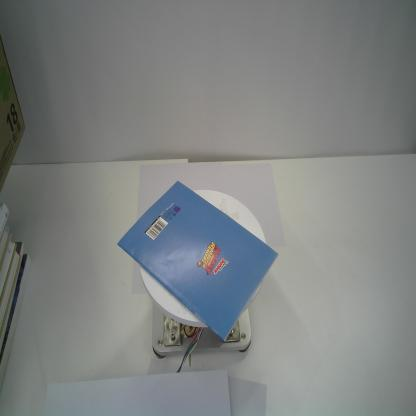Stationery: (118, 179, 280, 342)
